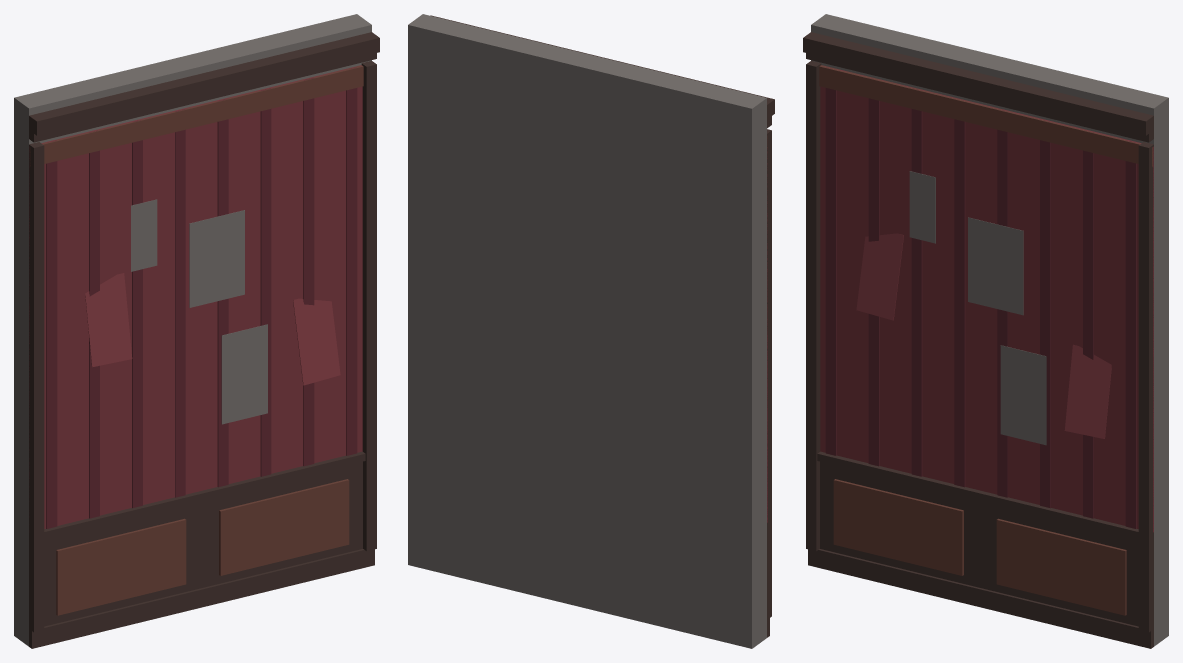
File: wall_panel.glb
The picture shows the model from 3 angles, left to right: view 1: azimuth 30°, elevation 25°; view 2: azimuth 150°, elevation 25°; view 3: azimuth 330°, elevation 25°; orthographic projection.
Visible parts, largest first — view 1: WallPanel; view 2: WallPanel; view 3: WallPanel.
Part boxes in pixels (x1=…): WallPanel: x1=14, y1=14, x2=379, y2=648; WallPanel: x1=408, y1=14, x2=774, y2=648; WallPanel: x1=803, y1=14, x2=1168, y2=648.
Size of the model in its own units: 4 by 6 by 0.5122.
